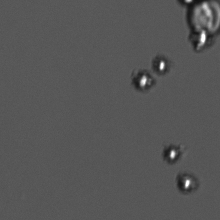Living Cell: (187, 1, 220, 39), (132, 68, 155, 94), (176, 170, 199, 194), (151, 54, 171, 75), (162, 143, 181, 164), (194, 29, 210, 52)
